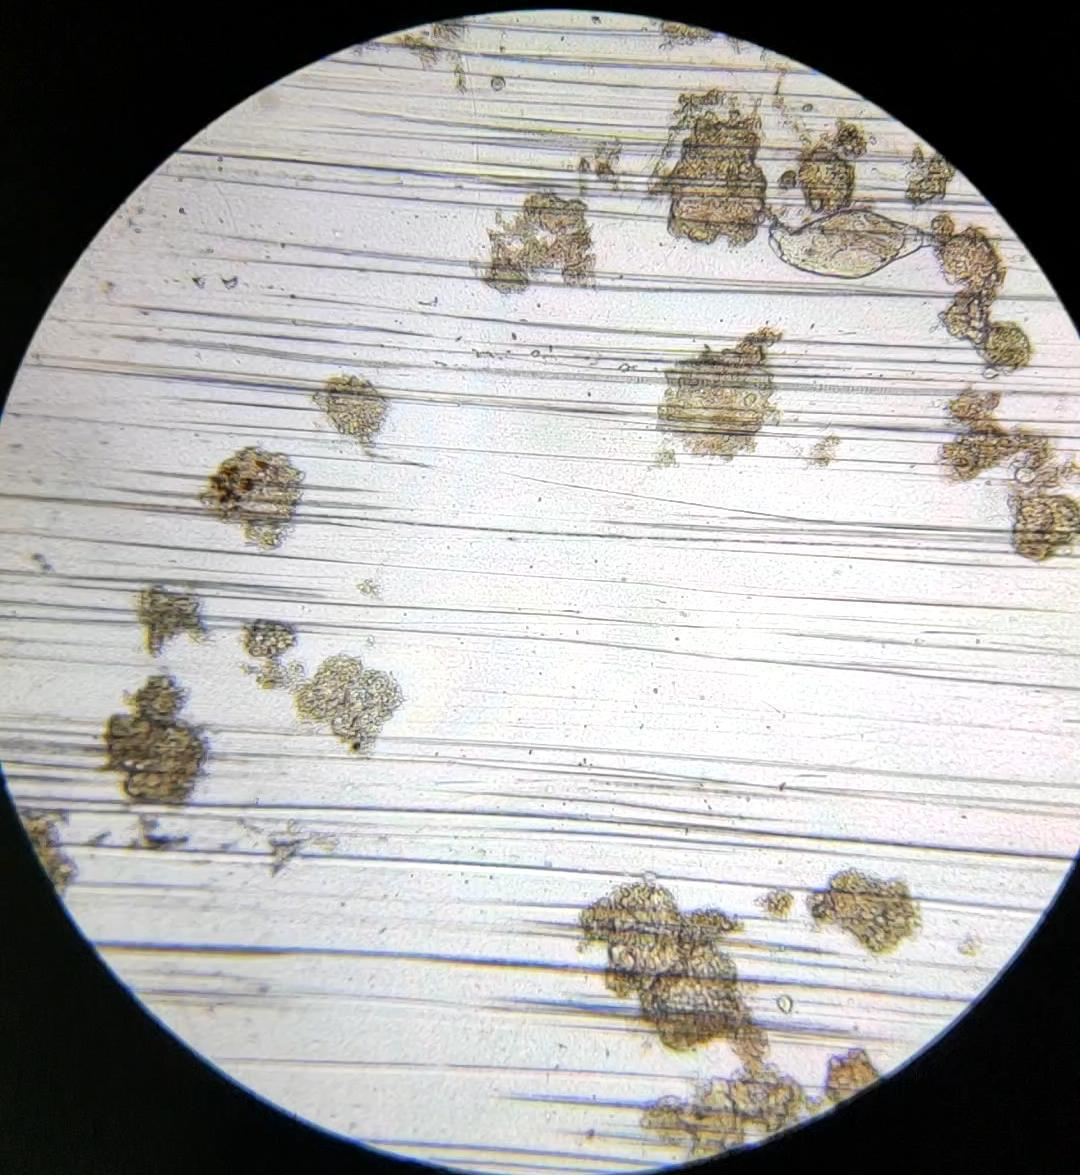Do: (769, 210, 945, 279)
